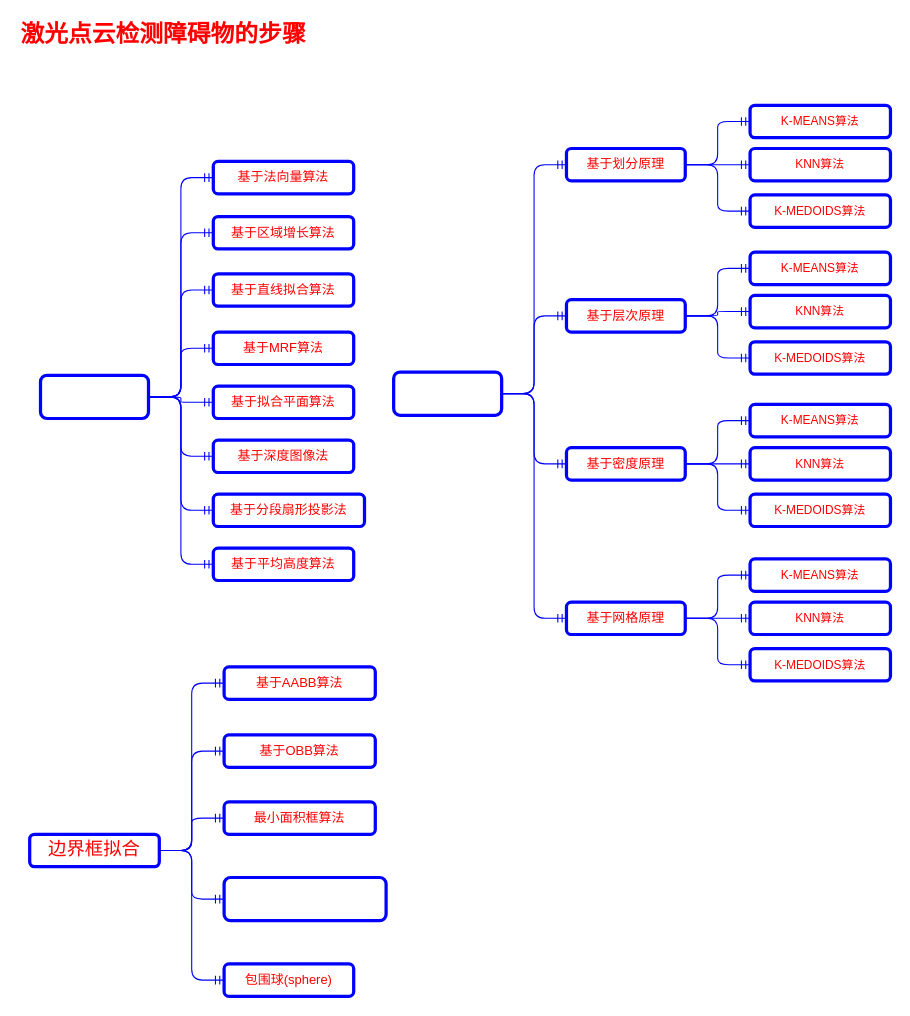
This 910x1016 diagram has some shape labels left out. Here are the shapes that lost their labels. From the top down, the centre of each, then its label:
At point 94,396: "分割算法".
At point 447,393: "聚类算法".
At point 304,898: "凸包包围框(fixed direction hulls or K-DOP)".
